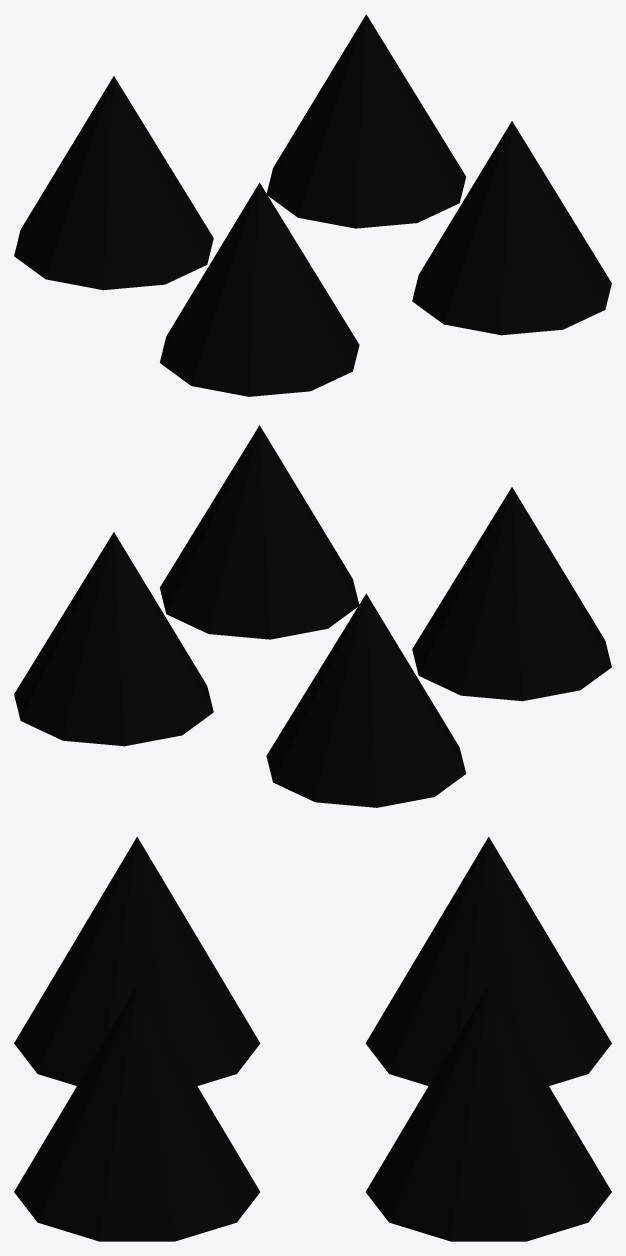
File: spike.fbx
3 views of the same model, one above another, from view 1: azimuth 30°, elevation 25°; view 2: azimuth 150°, elevation 25°; view 3: azimuth 270°, elevation 25° (orthographic). The views are drawn at different scales.
Parts seen in each view (by area): view 1: Mesh; view 2: Mesh; view 3: Mesh.
Boxes of the visible parts, x1,y1,x2,y2 form: Mesh: [14, 14, 611, 396]; Mesh: [14, 425, 611, 807]; Mesh: [14, 837, 611, 1241].
Bounding box in the file's own units: 0.6667 × 0.2598 × 0.6804.
